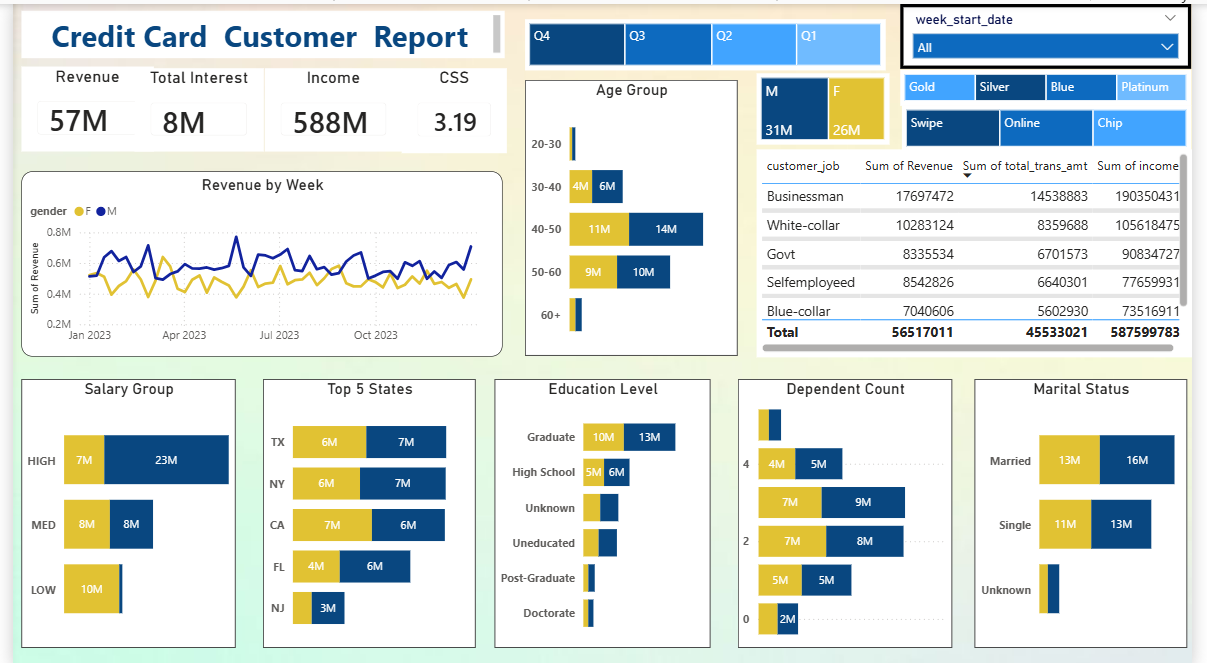

What the dashboard file says about the page in this screenshot:
{"tool":"powerbi","page":{"name":"CC customer","canvas":[1280,720],"ordinal":2},"visuals":[{"type":"textbox","box":[9.2,7.4,525,51.6],"z":0},{"type":"barChart","title":"Salary Group","fields":{"Y":["Sum(public cc_detail.Revenue)"],"Category":["public cust_detail.IncomeGroup"],"Series":["public cust_detail.gender"]},"box":[9.2,408.2,232.8,291.9],"z":1000},{"type":"tableEx","fields":{"Values":["public cust_detail.customer_job","Sum(public cc_detail.Revenue)","Sum(public cc_detail.total_trans_amt)","Sum(public cust_detail.income)"]},"box":[807.2,157,472.9,225.4],"z":2000},{"type":"cardVisual","title":"Revenue","fields":{"Data":["Sum(public cc_detail.Revenue)"]},"box":[9.2,68.2,143.7,92.1],"z":3000},{"type":"cardVisual","title":"Income","fields":{"Data":["Sum(public cust_detail.income)"]},"box":[272.6,70,149.2,90.3],"z":4000},{"type":"cardVisual","title":"Total Interest","fields":{"Data":["Sum(public cc_detail.interest_earned)"]},"box":[132.6,70,140,90.3],"z":5000},{"type":"cardVisual","title":"CSS","fields":{"Data":["Avg(public cust_detail.cust_satisfaction_score)"]},"box":[421.8,70,114.2,92.1],"z":6000},{"type":"slicer","fields":{"Values":["public cc_detail.week_start_date"]},"box":[964.3,0,315.9,70.2],"z":7000},{"type":"treemap","fields":{"Group":["public cc_detail.qtr"],"Values":["Avg(public cc_detail.client_num)"]},"box":[556,16.6,391.6,55.4],"z":8000},{"type":"treemap","fields":{"Group":["public cc_detail.card_category"],"Values":["Avg(public cc_detail.client_num)"]},"box":[964.3,72,315.9,38.8],"z":9000},{"type":"lineChart","title":"Revenue by Week","fields":{"Y":["Sum(public cc_detail.Revenue)"],"Series":["public cust_detail.gender"],"Category":["public cc_detail.week_start_date.Variation.Date Hierarchy.Year","public cc_detail.week_start_date.Variation.Date Hierarchy.Month","public cc_detail.week_start_date.Variation.Date Hierarchy.Day"]},"box":[9.2,181,522.8,201.4],"z":10000},{"type":"treemap","fields":{"Group":["public cust_detail.gender"],"Values":["Sum(public cc_detail.Revenue)"]},"box":[807.2,75.7,144.1,77.6],"z":11000},{"type":"barChart","title":"Age Group","fields":{"Y":["Sum(public cc_detail.Revenue)"],"Category":["public cust_detail.AgeGroup"],"Series":["public cust_detail.gender"]},"box":[556,83.1,230.9,299.3],"z":12000},{"type":"barChart","title":"Education Level","fields":{"Y":["Sum(public cc_detail.Revenue)"],"Category":["public cust_detail.education_level"],"Series":["public cust_detail.gender"]},"box":[522.8,408.2,234.6,291.9],"z":13000},{"type":"barChart","title":"Dependent Count","fields":{"Y":["Sum(public cc_detail.Revenue)"],"Category":["public cust_detail.dependent_count"],"Series":["public cust_detail.gender"]},"box":[786.9,408.2,232.8,291.9],"z":14000},{"type":"barChart","title":"Marital Status","fields":{"Y":["Sum(public cc_detail.Revenue)"],"Category":["public cust_detail.marital_status"],"Series":["public cust_detail.gender"]},"box":[1043.7,408.2,230.9,291.9],"z":15000},{"type":"barChart","title":"Top 5 States","fields":{"Y":["Sum(public cc_detail.Revenue)"],"Category":["public cust_detail.state_cd"],"Series":["public cust_detail.gender"]},"box":[271.5,408.2,230.9,291.9],"z":16000},{"type":"treemap","fields":{"Group":["public cc_detail.use_chip"],"Values":["Avg(public cc_detail.client_num)"]},"box":[966.1,110.8,314,49.9],"z":17000}]}

Visuals, with their boxes in screenshot pixels (x1, y1, x2, y2), scaled from the page's 1280x720 canvas onto the 1207x663 screenshot:
textbox: Rect(9, 7, 504, 54)
"Salary Group" barChart: Rect(9, 376, 228, 645)
tableEx - public cust_detail.customer_job x Sum(public cc_detail.Revenue): Rect(761, 145, 1206, 352)
"Revenue" cardVisual: Rect(9, 63, 144, 148)
"Income" cardVisual: Rect(257, 64, 398, 148)
"Total Interest" cardVisual: Rect(125, 64, 257, 148)
"CSS" cardVisual: Rect(398, 64, 505, 149)
slicer - public cc_detail.week_start_date: Rect(909, 0, 1206, 65)
treemap - public cc_detail.qtr x Avg(public cc_detail.client_num): Rect(524, 15, 894, 66)
treemap - public cc_detail.card_category x Avg(public cc_detail.client_num): Rect(909, 66, 1206, 102)
"Revenue by Week" lineChart: Rect(9, 167, 502, 352)
treemap - public cust_detail.gender x Sum(public cc_detail.Revenue): Rect(761, 70, 897, 141)
"Age Group" barChart: Rect(524, 77, 742, 352)
"Education Level" barChart: Rect(493, 376, 714, 645)
"Dependent Count" barChart: Rect(742, 376, 962, 645)
"Marital Status" barChart: Rect(984, 376, 1202, 645)
"Top 5 States" barChart: Rect(256, 376, 474, 645)
treemap - public cc_detail.use_chip x Avg(public cc_detail.client_num): Rect(911, 102, 1206, 148)
